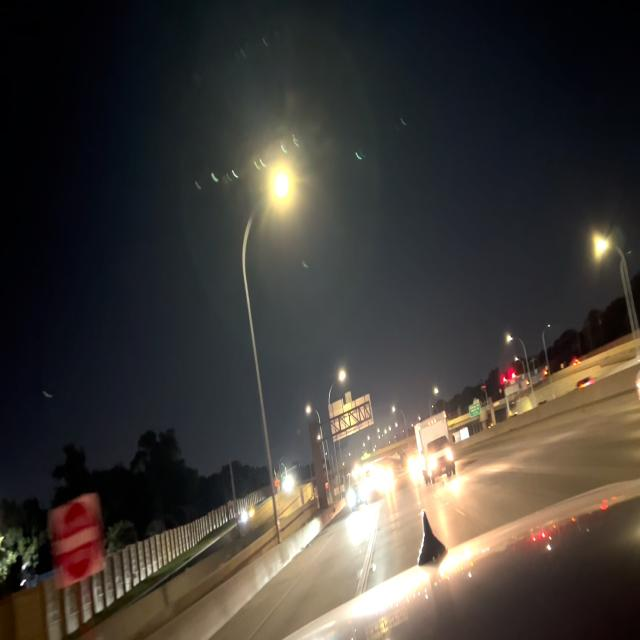back-of-sign: (329, 390, 375, 444)
